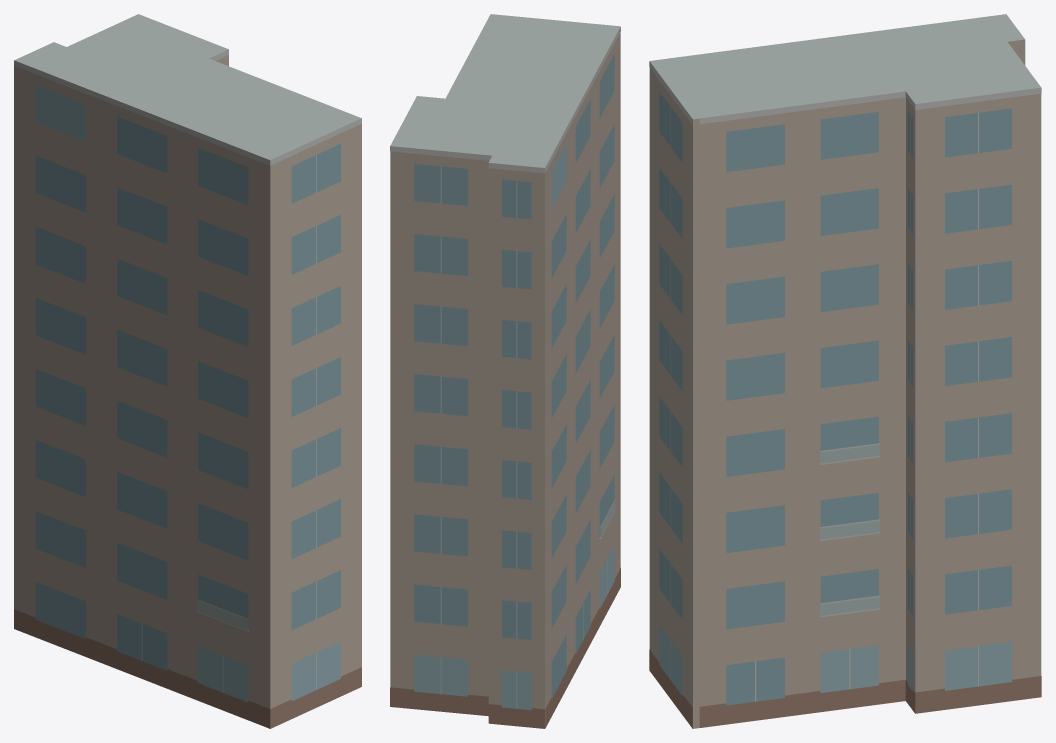
File: survey-upis-32613174.glb
3 views of the same model, side by side, from view 1: azimuth 30°, elevation 25°; view 2: azimuth 150°, elevation 25°; view 3: azimuth 270°, elevation 25° (orthographic). The views are drawn at different scales.
Visible parts, largest first — view 1: survey-upis-32613174.tmp; view 2: survey-upis-32613174.tmp; view 3: survey-upis-32613174.tmp.
Boxes of the visible parts, x1,y1,x2,y2 form: survey-upis-32613174.tmp: (14, 14, 361, 728); survey-upis-32613174.tmp: (390, 14, 620, 728); survey-upis-32613174.tmp: (649, 14, 1041, 728).
Size of the model in its own units: 9.43 by 25.4 by 14.82.
